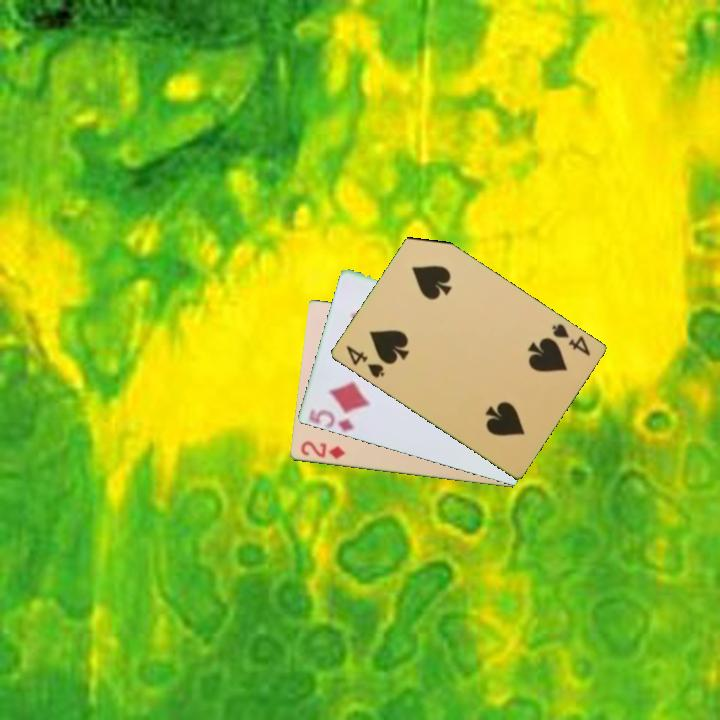2d: (297, 438, 348, 462)
4s: (342, 342, 388, 381), (548, 320, 593, 359)
5d: (307, 406, 357, 435)
